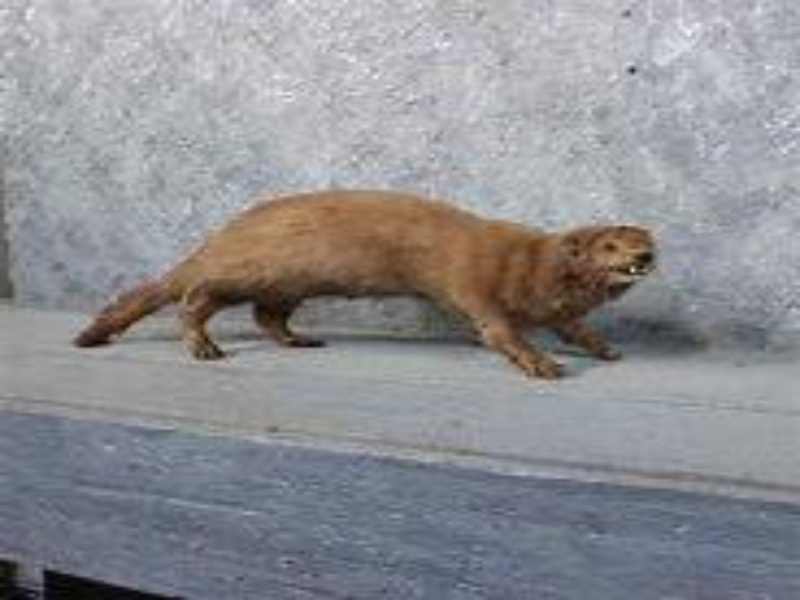minkish: (69, 188, 660, 385)
